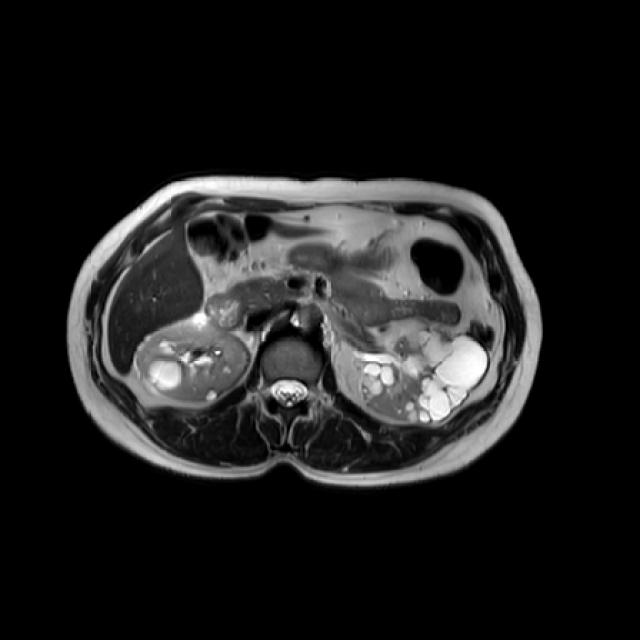sag: (132, 311, 253, 404)
sol: (355, 315, 491, 424)
